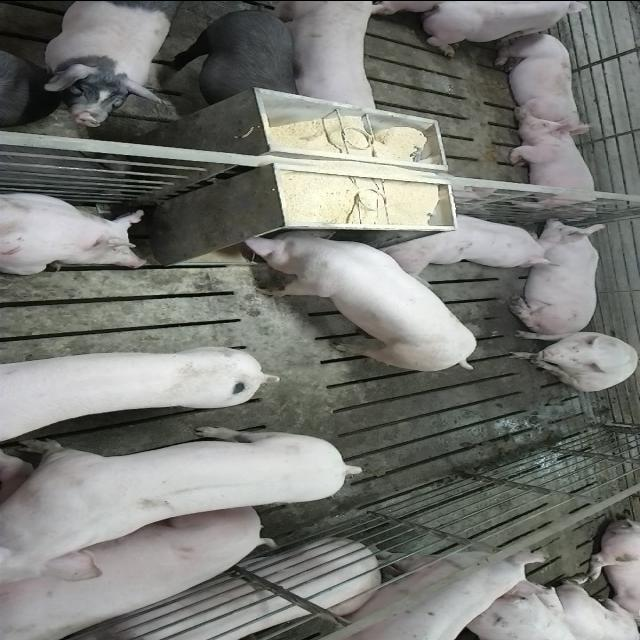Feeding: (240, 229, 478, 375)
Lateral_lying: (0, 504, 271, 640), (45, 539, 382, 640)
Sitting: (506, 328, 638, 391)
Standing: (3, 430, 365, 586), (0, 344, 273, 440), (307, 550, 543, 640), (39, 3, 173, 128), (166, 2, 304, 108), (272, 3, 384, 119), (1, 35, 30, 126)
Sternal_lying: (0, 190, 151, 274), (377, 209, 560, 270), (508, 218, 608, 328), (491, 29, 588, 130), (506, 116, 604, 215), (419, 3, 602, 56)
